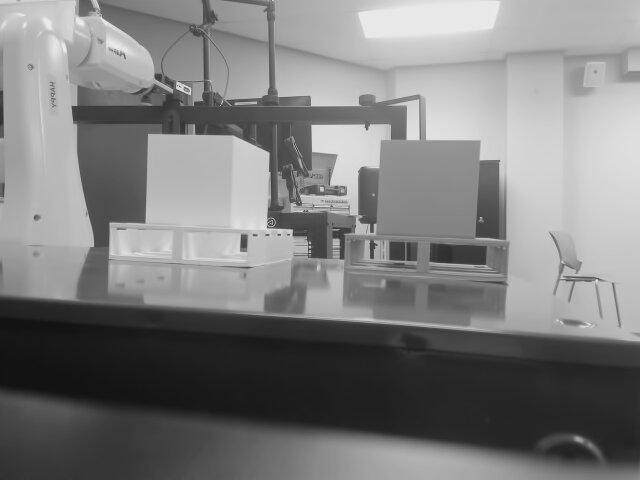grey pallet: (340, 132, 512, 288)
white pallet: (106, 118, 298, 273)
